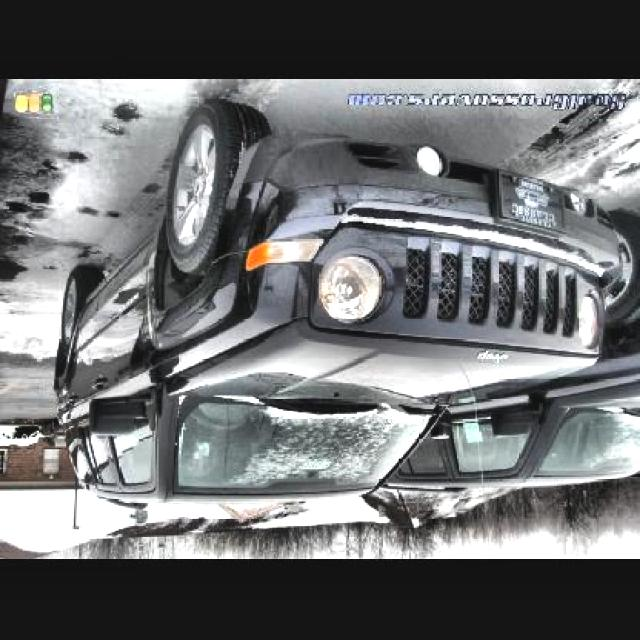black: (72, 138, 600, 519)
